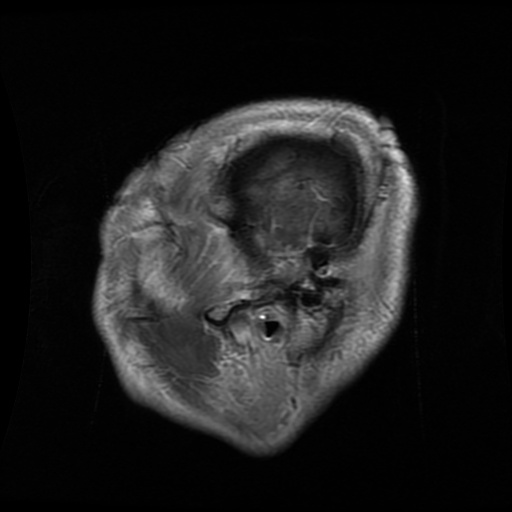glioma: (263, 223, 307, 249)
